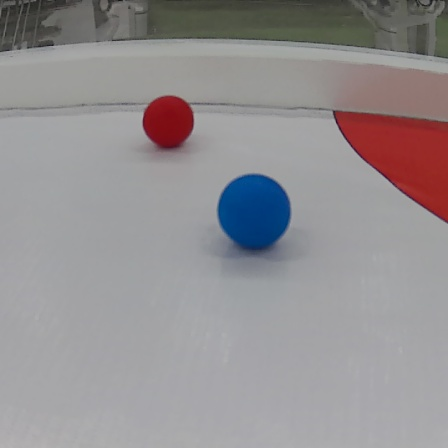blue: (217, 168, 295, 251)
red: (141, 95, 195, 148)
red_base: (329, 92, 448, 234)
